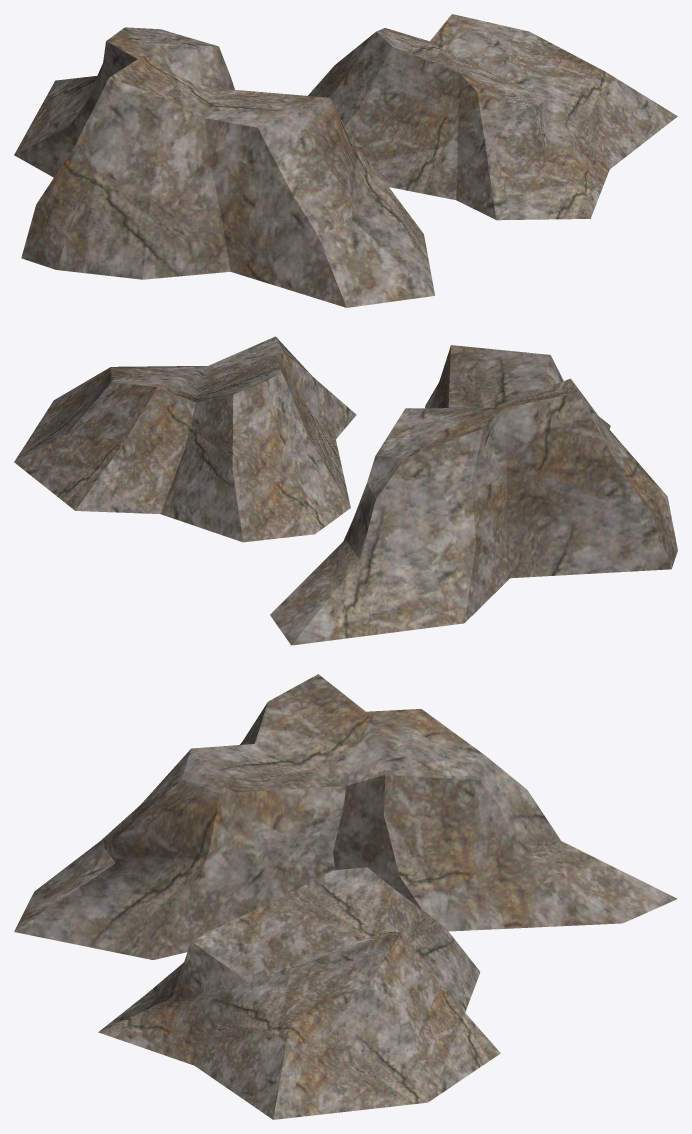
Rendered from RckM04.glb.
3 views of the same model, one above another, from view 1: azimuth 30°, elevation 25°; view 2: azimuth 150°, elevation 25°; view 3: azimuth 270°, elevation 25° (orthographic). The views are drawn at different scales.
Visible parts, largest first — view 1: _RckM04; view 2: _RckM04; view 3: _RckM04.
Part boxes in pixels (x1,y1,x2,y2): _RckM04: [14, 14, 677, 307]; _RckM04: [14, 336, 677, 645]; _RckM04: [14, 674, 677, 1119].
Size of the model in its own units: 18.3 by 4.3 by 15.67.
Materials: 1 (1 with a texture image).
